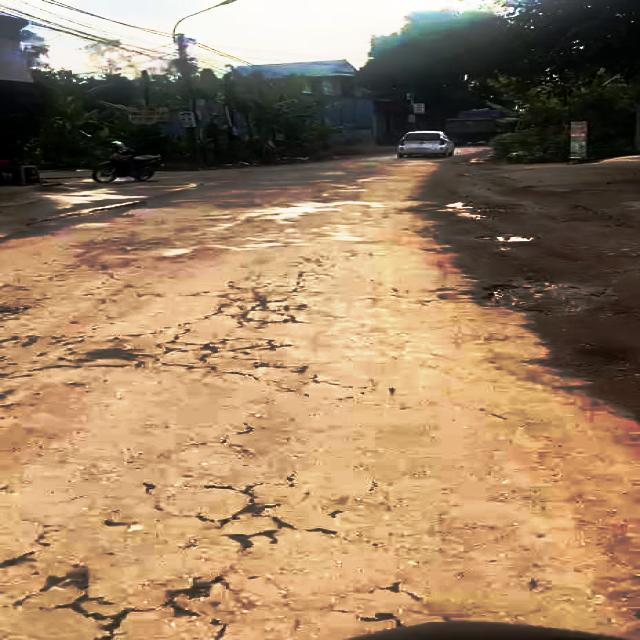pothole: (459, 276, 622, 312), (514, 339, 640, 383), (22, 201, 160, 226), (442, 202, 506, 220), (472, 232, 540, 244)
